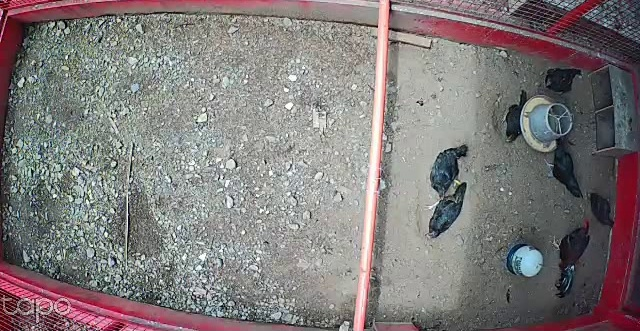Chicken: (542, 135, 588, 200), (422, 180, 470, 240), (429, 143, 470, 202), (500, 88, 534, 145), (541, 64, 584, 98), (588, 192, 618, 228)
Leg_Band_Yellow: (453, 178, 462, 185)
Rooster: (549, 218, 592, 302)
